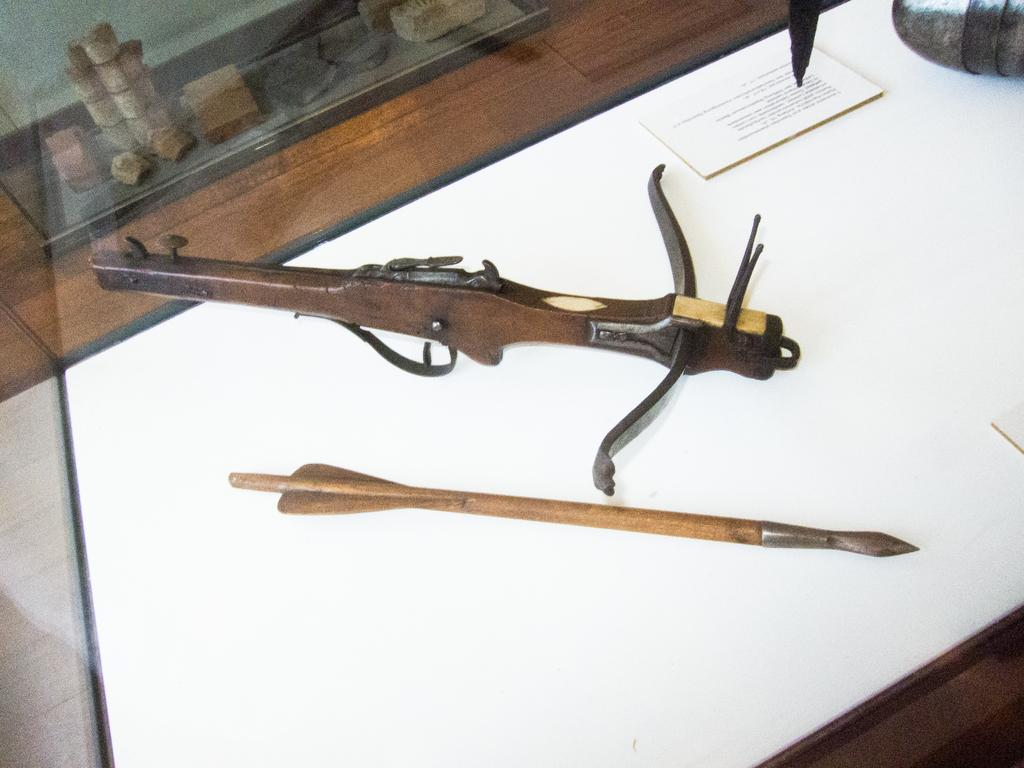Rifle: (88, 165, 797, 488)
